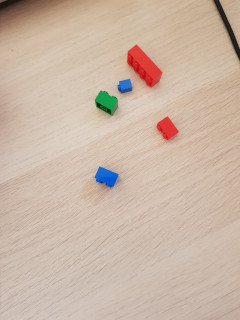1x1 blue: (116, 78, 134, 93)
1x2 red: (156, 117, 180, 141)
2x2 blue: (94, 164, 120, 189)
2x2 green: (95, 91, 118, 116)
2x4 red: (127, 44, 165, 88)
